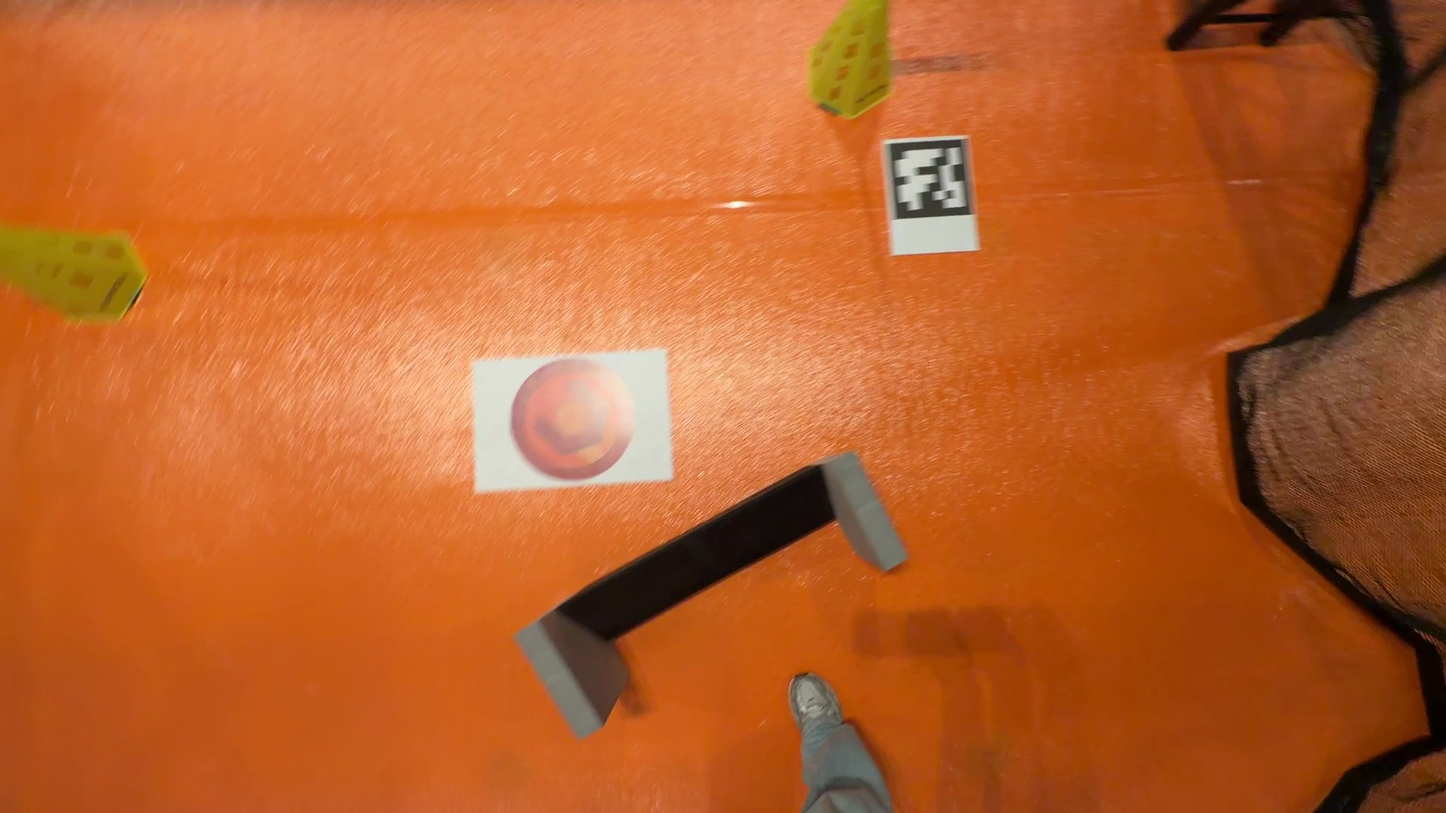landing_pad: (510, 357, 639, 486)
